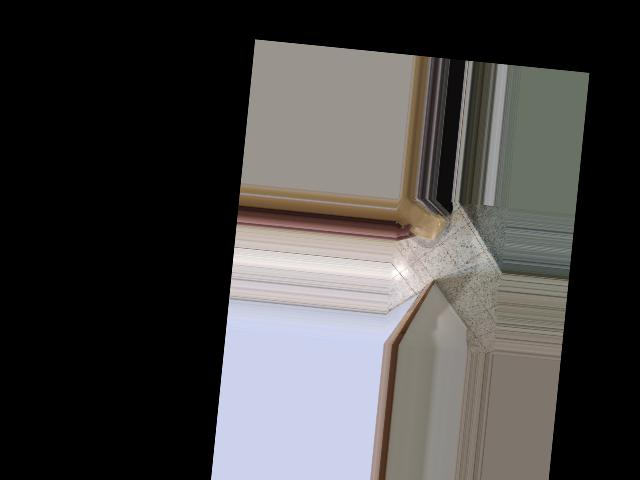cheese: (392, 195, 451, 249)
